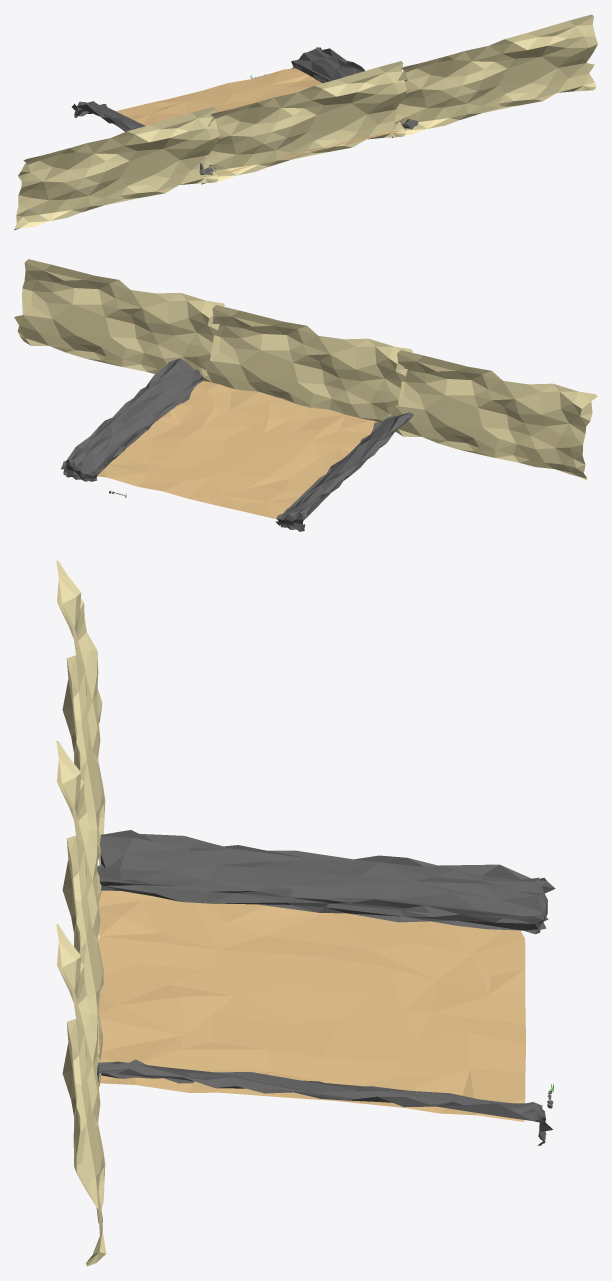
Rendered from Beach.fbx.
3 renders of one model, top to bottom at view 1: azimuth 30°, elevation 25°; view 2: azimuth 150°, elevation 25°; view 3: azimuth 270°, elevation 25°, orthographic. The views are drawn at different scales.
Parts seen in each view (by area): view 1: Wall_Right, Wall_Left, Wall_Middle, Ground, Left_border, Right_border; view 2: Ground, Wall_Right, Wall_Left, Wall_Middle, Left_border, Right_border; view 3: Ground, Right_border, Wall_Left, Left_border, Wall_Right, Wall_Middle.
Part boxes in pixels (x1,y1,x2,y2): Wall_Right: (14,106,219,230); Wall_Left: (392,14,597,137); Wall_Middle: (201,61,407,184); Ground: (101,68,409,176); Left_border: (291,47,418,129); Right_border: (72,101,215,174); Ground: (97,381,378,518); Wall_Right: (387,350,597,480); Wall_Left: (14,259,225,382); Wall_Middle: (202,305,412,432); Left_border: (61,358,203,481); Right_border: (275,412,413,531); Ground: (97,890,525,1121); Right_border: (97,830,555,934); Wall_Left: (56,924,106,1266); Left_border: (97,1059,553,1145); Wall_Right: (56,560,105,870); Wall_Middle: (56,740,103,1060).
Size of the model in its own units: 20766 by 3415 by 7828.
